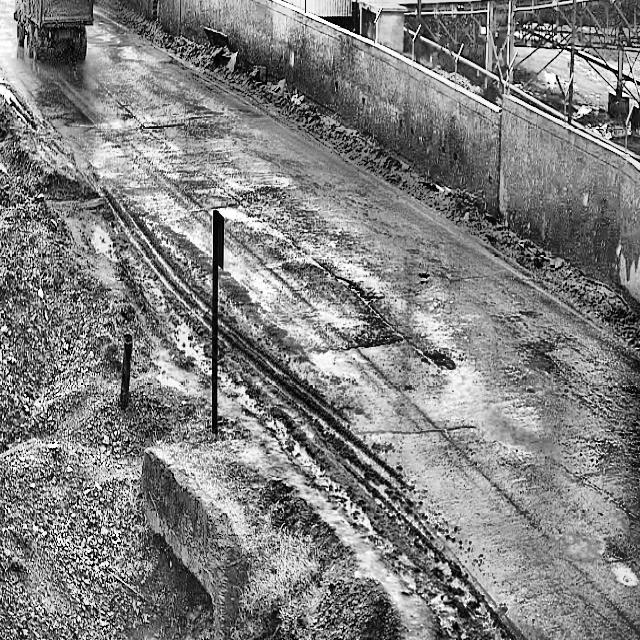dump_truck: (10, 0, 91, 60)
